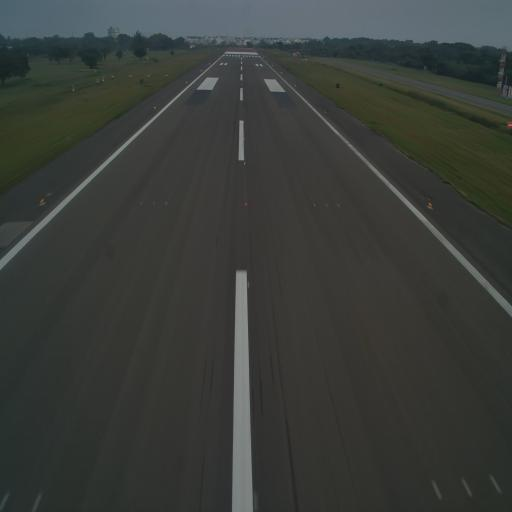off: (322, 200, 330, 212), (139, 196, 144, 208), (164, 199, 170, 209), (312, 198, 316, 211), (336, 201, 341, 211), (152, 200, 157, 208), (186, 134, 190, 141), (194, 135, 198, 141), (324, 108, 327, 114), (179, 135, 182, 141), (285, 138, 288, 144), (292, 138, 294, 144), (299, 137, 301, 142)
on: (245, 276, 252, 292), (38, 196, 46, 208), (427, 200, 434, 211), (243, 201, 248, 211), (152, 104, 157, 113), (243, 160, 247, 168), (242, 119, 246, 126), (243, 136, 245, 142)
